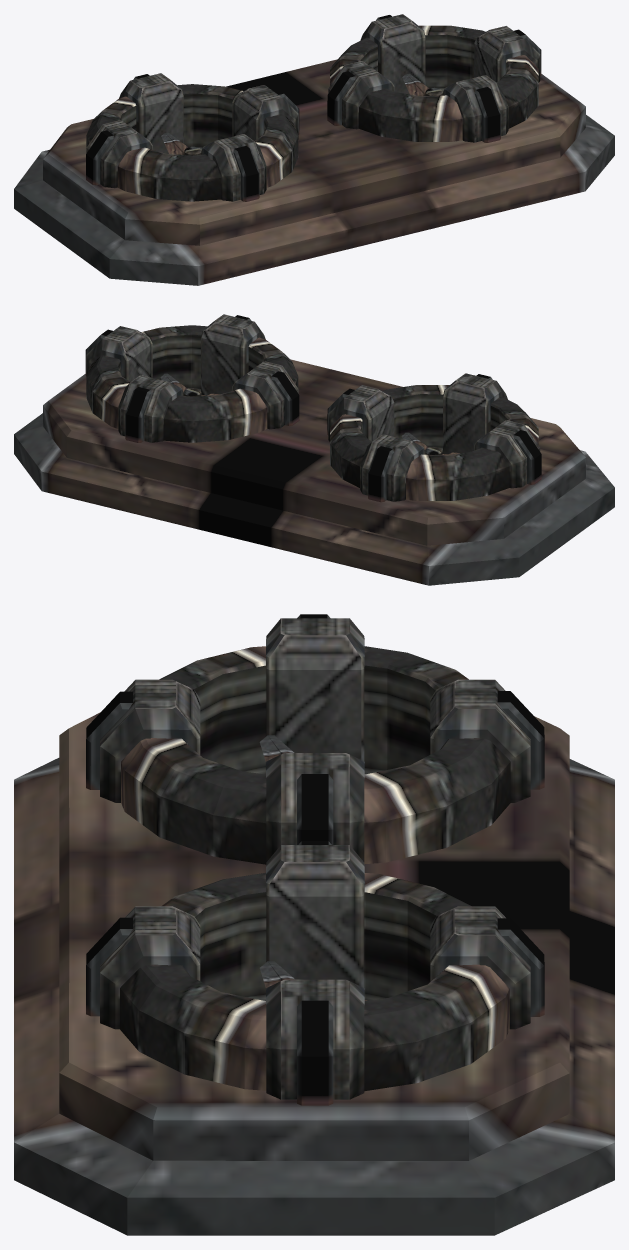
The model's file is SM_EN_1002_xiaojian02.FBX.
The picture shows the model from 3 angles, top to bottom: view 1: azimuth 30°, elevation 25°; view 2: azimuth 150°, elevation 25°; view 3: azimuth 270°, elevation 25°; orthographic projection. The views are drawn at different scales.
Visible parts, largest first — view 1: SM_EN_1002_xiaojian02; view 2: SM_EN_1002_xiaojian02; view 3: SM_EN_1002_xiaojian02.
Part boxes in pixels (x1=…): SM_EN_1002_xiaojian02: x1=14, y1=14, x2=614, y2=285; SM_EN_1002_xiaojian02: x1=14, y1=314, x2=614, y2=585; SM_EN_1002_xiaojian02: x1=14, y1=614, x2=614, y2=1235.
Size of the model in its own units: 220 by 41.44 by 118.
